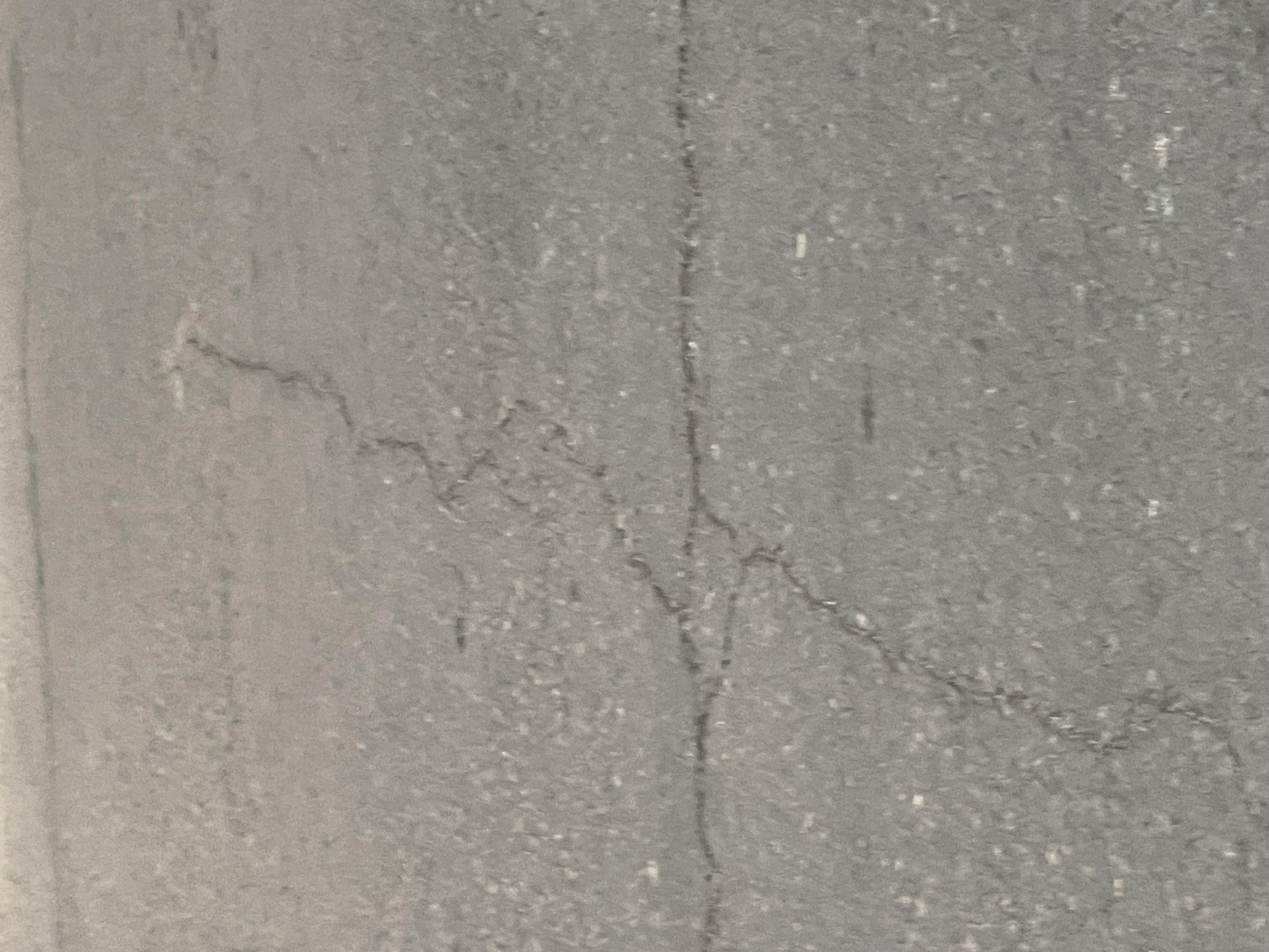GRIETA: (751, 544, 1269, 830), (356, 399, 671, 612), (669, 0, 722, 952), (183, 331, 358, 442)
